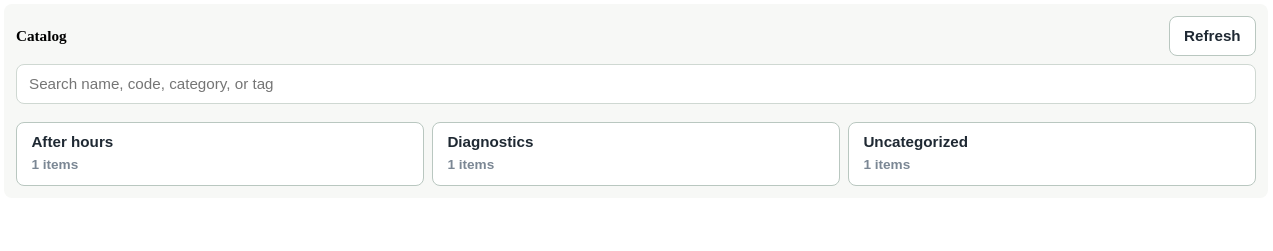
EstimateCatalogPicker › uses managed category order and routes inactive-category items to the fallback bucket
Click the button "Uncategorized 1 items": (916, 142) [848,122,1256,186]
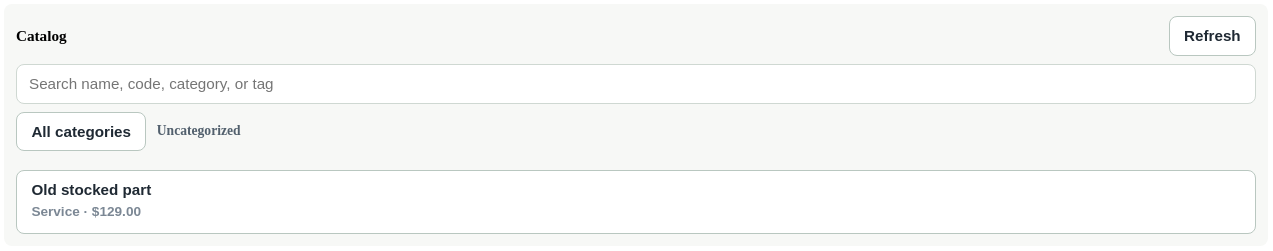
Now the button "Old stocked part Service · $129.00" is shown, box [16,170,1256,234]
